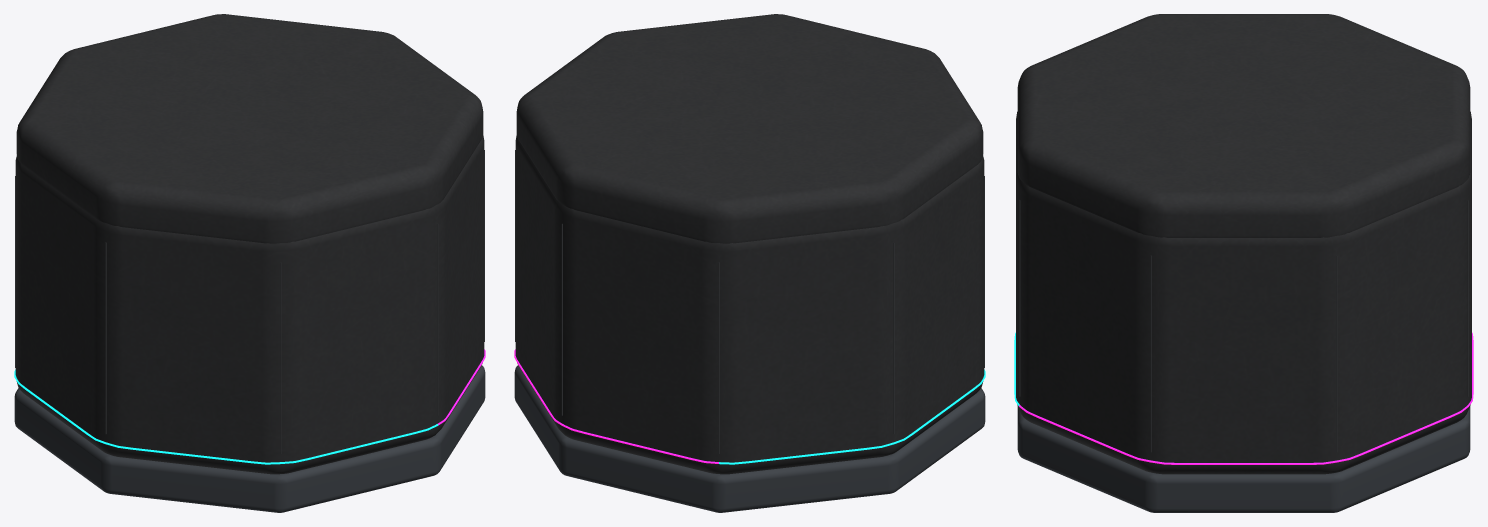
Rendered from cyberpunk_pufe.glb.
3 renders of one model, left to right at view 1: azimuth 30°, elevation 25°; view 2: azimuth 150°, elevation 25°; view 3: azimuth 270°, elevation 25°, orthographic. The views are drawn at different scales.
Visible parts, largest first — view 1: pufe; view 2: pufe; view 3: pufe.
Part boxes in pixels (bbox=[...]): pufe: bbox=[14, 14, 485, 512]; pufe: bbox=[514, 14, 985, 512]; pufe: bbox=[1014, 14, 1473, 512].
Size of the model in its own units: 0.5378 by 0.409 by 0.5378.
Materials: 5 (1 with a texture image).
